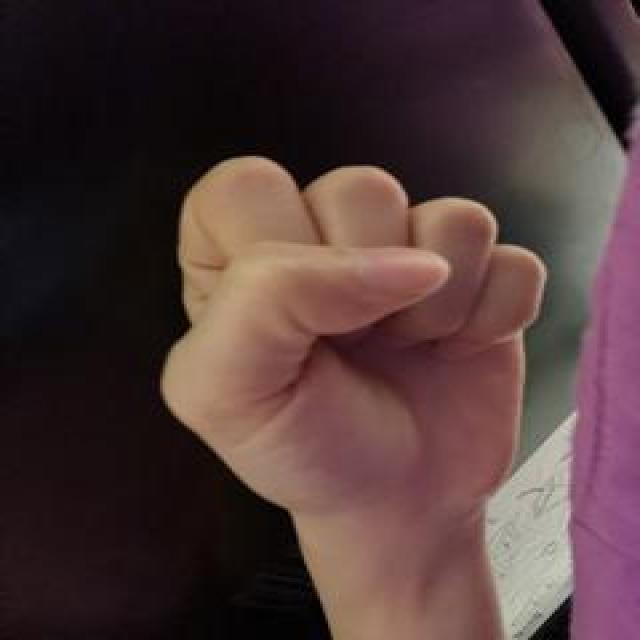S: (151, 153, 561, 515)
